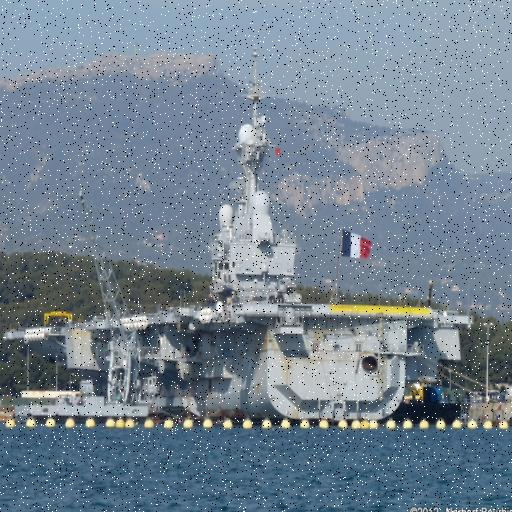Portanaves: (4, 41, 484, 432)
